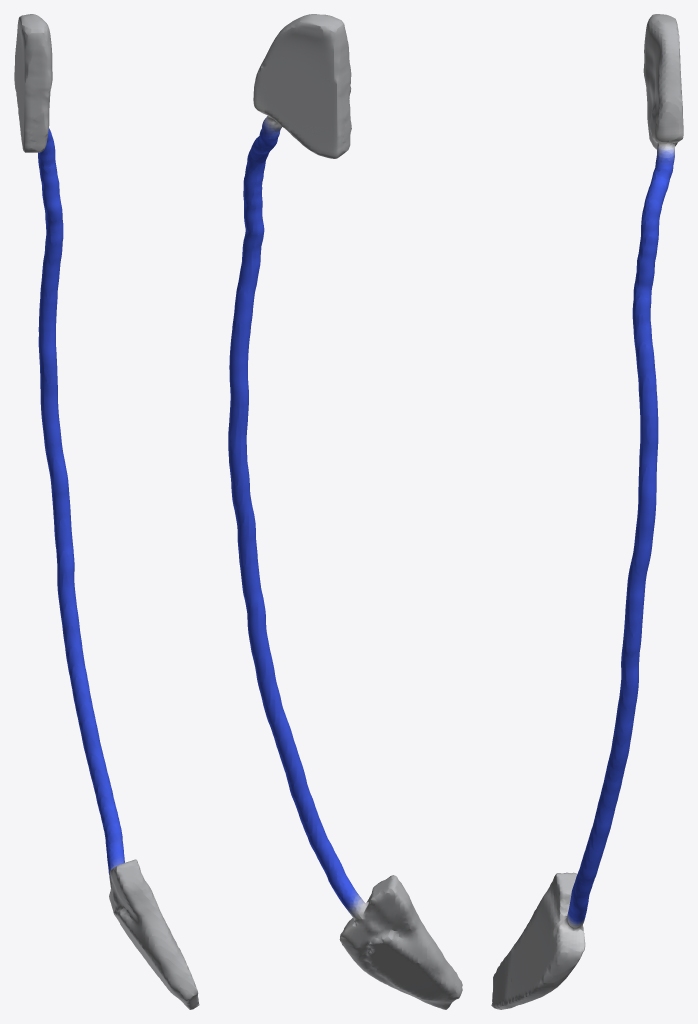
File: door handle.fbx
3 renders of one model, left to right at view 1: azimuth 90°, elevation 25°; view 2: azimuth 150°, elevation 25°; view 3: azimuth 270°, elevation 25°, orthographic. The views are drawn at different scales.
Visible parts, largest first — view 1: Layer_1; view 2: Layer_1; view 3: Layer_1.
Part boxes in pixels (x1=…): Layer_1: x1=14, y1=14, x2=199, y2=1009; Layer_1: x1=228, y1=14, x2=462, y2=1009; Layer_1: x1=491, y1=14, x2=683, y2=1009.
Size of the model in its own units: 0.3257 by 0.3566 by 2.07.
